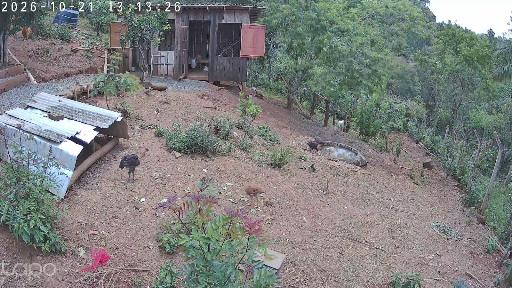galinha: (118, 147, 152, 186), (242, 183, 266, 210), (21, 26, 33, 41), (307, 141, 319, 152), (250, 83, 258, 97), (315, 136, 324, 145)
pato: (202, 66, 209, 72)
